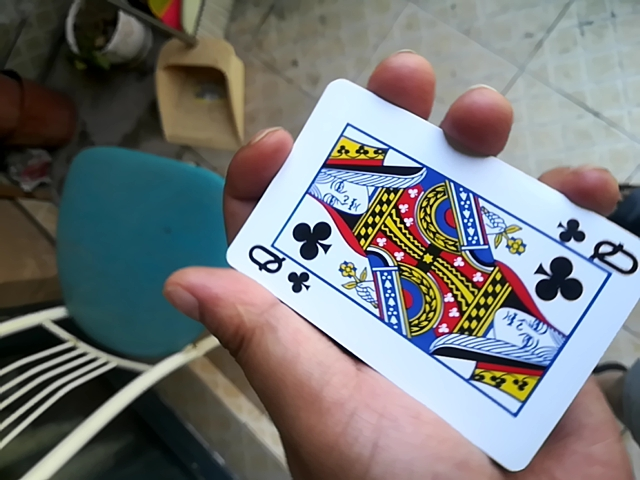mh q: (214, 76, 632, 464)
